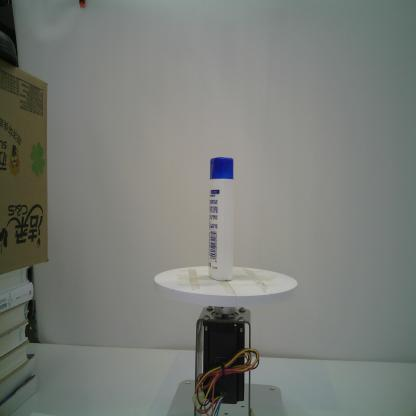Personal Hygiene: (208, 156, 235, 281)
